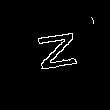N_W: (30, 31, 80, 79)
